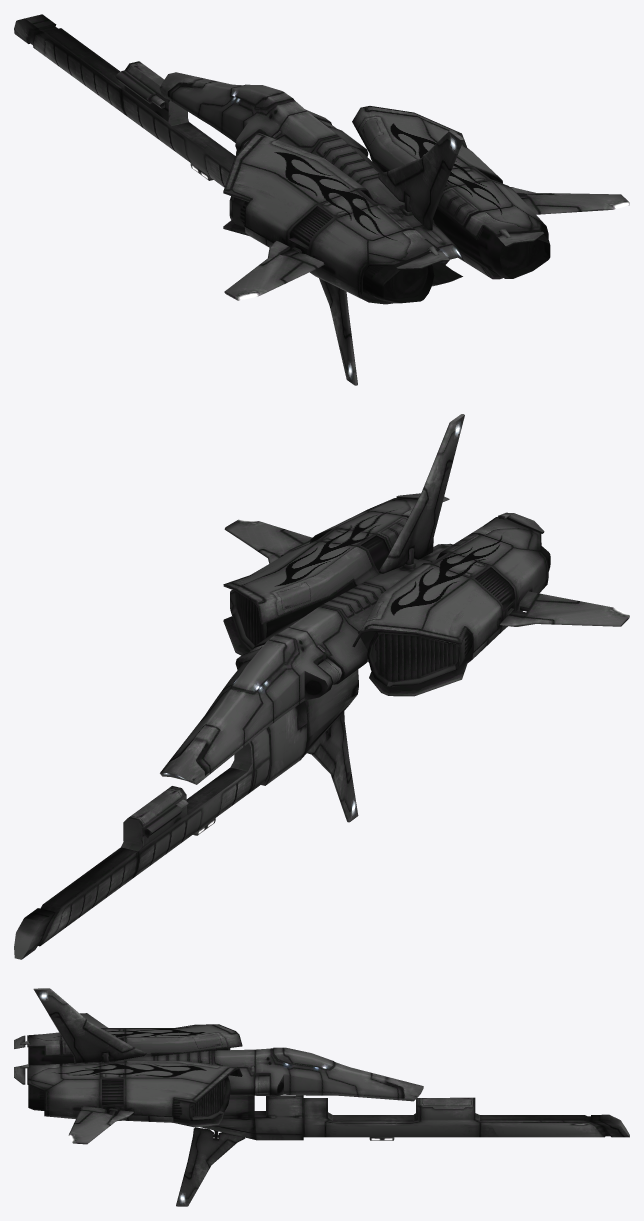
3 renders of one model, top to bottom at view 1: azimuth 30°, elevation 25°; view 2: azimuth 150°, elevation 25°; view 3: azimuth 270°, elevation 25°, orthographic. The views are drawn at different scales.
Parts seen in each view (by area): view 1: Root_Level0_Material #57_0; view 2: Root_Level0_Material #57_0; view 3: Root_Level0_Material #57_0.
Part boxes in pixels (x1,y1,x2,y2): Root_Level0_Material #57_0: (14,14,629,385); Root_Level0_Material #57_0: (14,414,629,959); Root_Level0_Material #57_0: (14,988,629,1206).
Bounding box in the file's own units: 1.07 × 0.8387 × 2.16.
1 material, 1 textured.
